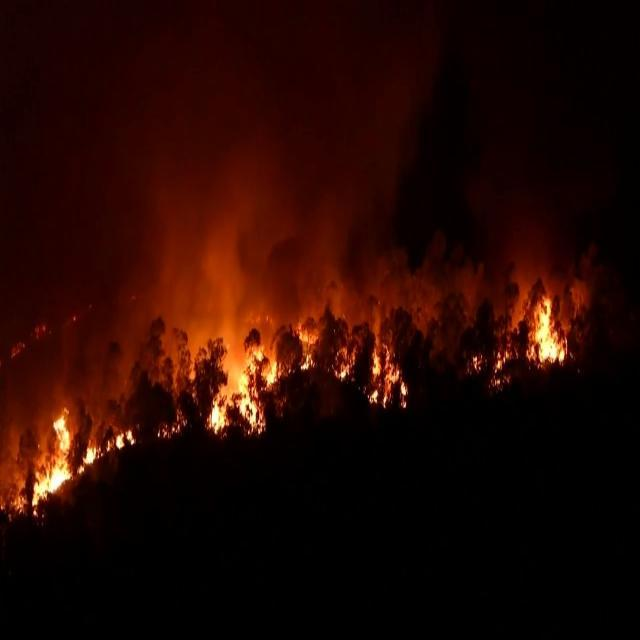Fire: (204, 314, 318, 436), (31, 402, 135, 516), (490, 288, 570, 388), (366, 342, 408, 410), (333, 342, 357, 382), (157, 408, 187, 439), (472, 352, 483, 374)
